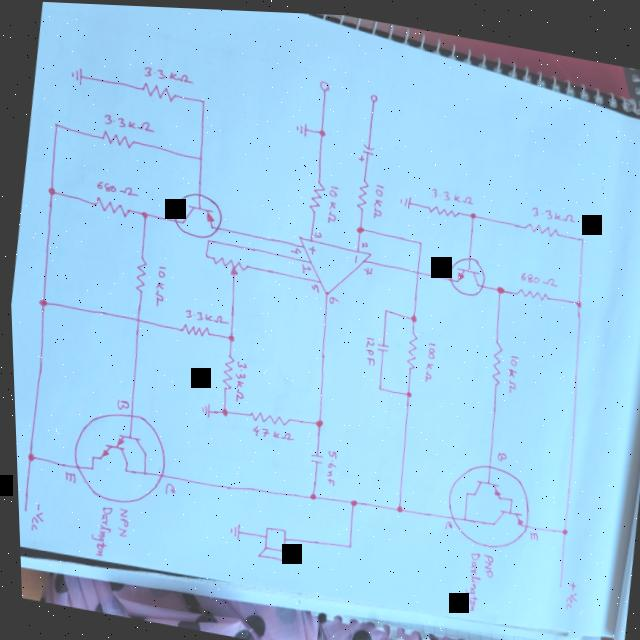capacitor: (354, 137, 376, 162), (305, 450, 321, 462), (372, 338, 387, 350)
crossover: (131, 314, 140, 323), (411, 265, 420, 273)
ground: (67, 63, 84, 86), (292, 117, 309, 136), (223, 519, 238, 539), (195, 399, 209, 418), (396, 190, 411, 207)
junction: (216, 403, 228, 417), (310, 414, 322, 426), (44, 185, 56, 197), (570, 292, 581, 304), (353, 221, 364, 233), (35, 297, 46, 308), (223, 330, 234, 341), (22, 452, 33, 463), (493, 280, 504, 291), (466, 206, 477, 217), (137, 208, 148, 219), (304, 488, 314, 499), (406, 309, 416, 320), (555, 521, 565, 532), (345, 495, 355, 505), (391, 500, 401, 510), (317, 125, 326, 135), (401, 385, 410, 395), (50, 120, 60, 129), (575, 229, 584, 239), (198, 95, 207, 104), (194, 152, 203, 161), (378, 302, 387, 311), (199, 250, 208, 258), (373, 381, 380, 389), (414, 235, 422, 242), (342, 539, 349, 547), (203, 236, 210, 243)
resistor: (205, 250, 249, 278), (89, 192, 132, 219), (136, 78, 179, 103), (484, 336, 505, 385), (243, 405, 290, 426), (97, 127, 138, 150), (215, 350, 235, 393), (129, 254, 149, 295), (520, 214, 561, 234), (399, 328, 419, 369), (305, 176, 326, 212), (512, 280, 551, 299), (424, 198, 462, 216), (352, 175, 371, 210), (177, 319, 210, 338)
terminal: (316, 76, 331, 90), (367, 89, 378, 100), (552, 578, 559, 585), (17, 507, 24, 514)
text: (456, 545, 481, 610), (83, 503, 112, 558), (101, 111, 156, 134), (141, 62, 195, 84), (528, 198, 576, 220), (427, 181, 474, 203), (92, 177, 139, 199), (181, 305, 228, 325), (246, 421, 293, 441), (148, 262, 168, 308), (417, 336, 437, 381), (515, 264, 557, 285), (228, 358, 247, 401), (321, 181, 340, 223), (501, 349, 520, 390), (23, 501, 44, 535), (368, 178, 386, 217), (318, 447, 336, 485), (110, 505, 129, 538), (358, 331, 376, 365), (559, 574, 577, 607), (475, 549, 493, 577), (58, 469, 74, 485), (158, 479, 173, 496), (112, 397, 128, 411), (491, 445, 505, 458), (360, 261, 373, 274), (324, 292, 338, 304), (287, 242, 300, 254), (310, 226, 322, 238), (298, 260, 310, 272), (439, 515, 450, 527), (307, 279, 319, 290), (357, 235, 368, 247), (523, 526, 535, 537)
transistor: (59, 397, 175, 513), (436, 451, 538, 553), (167, 184, 225, 240), (443, 246, 488, 295)
